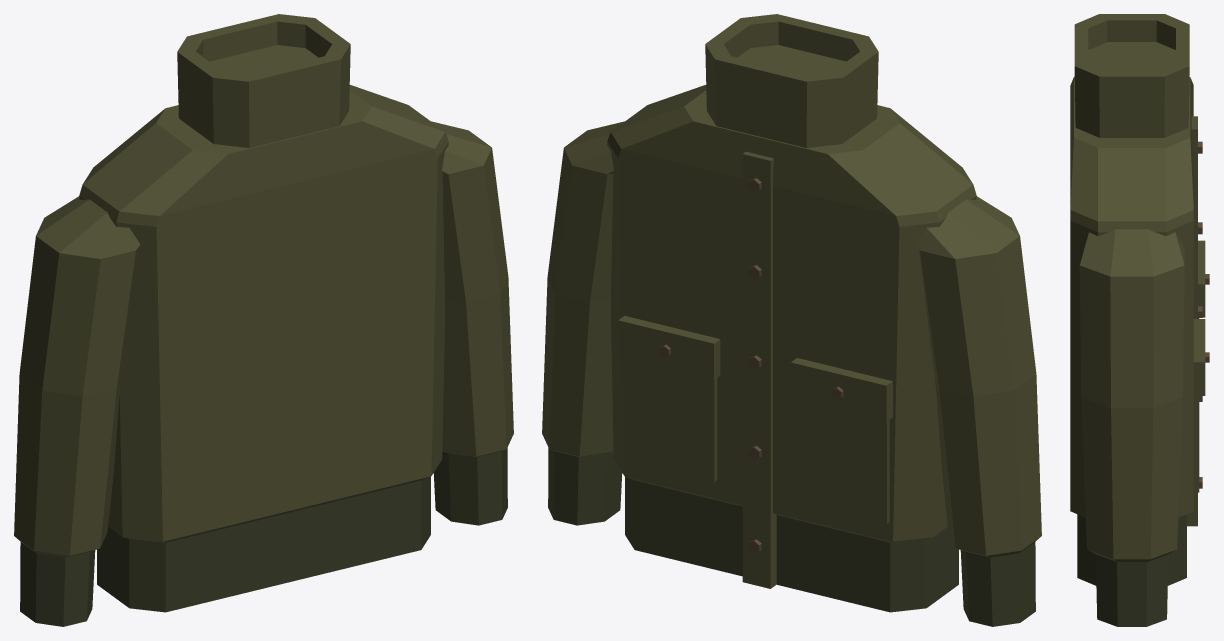
File: Jacket_Bomber.fbx
3 views of the same model, side by side, from view 1: azimuth 30°, elevation 25°; view 2: azimuth 150°, elevation 25°; view 3: azimuth 270°, elevation 25° (orthographic). The views are drawn at different scales.
Visible parts, largest first — view 1: Prop_JacketBomber; view 2: Prop_JacketBomber; view 3: Prop_JacketBomber.
Part boxes in pixels (x1,y1,x2,y2): Prop_JacketBomber: [14, 14, 513, 626]; Prop_JacketBomber: [542, 14, 1041, 626]; Prop_JacketBomber: [1070, 14, 1209, 626].
Bounding box in the file's own units: 0.7506 × 0.765 × 0.203.
